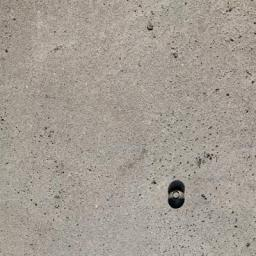FOD: (167, 179, 189, 212)
